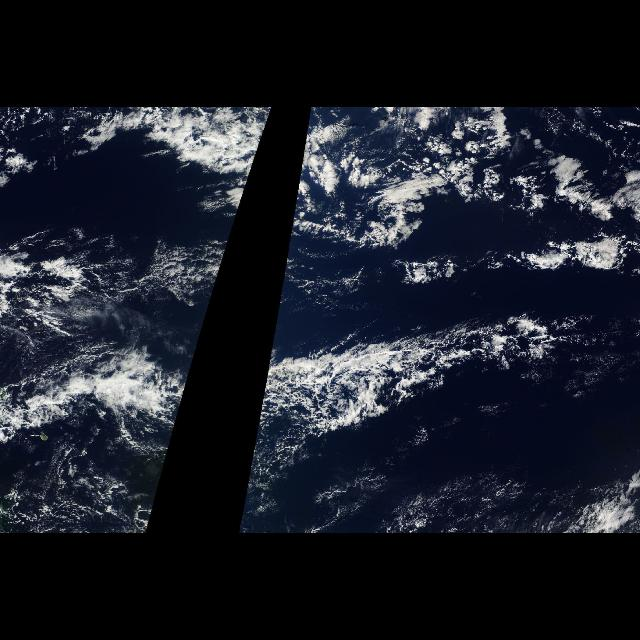Fish: (248, 231, 626, 513), (0, 232, 232, 472)
